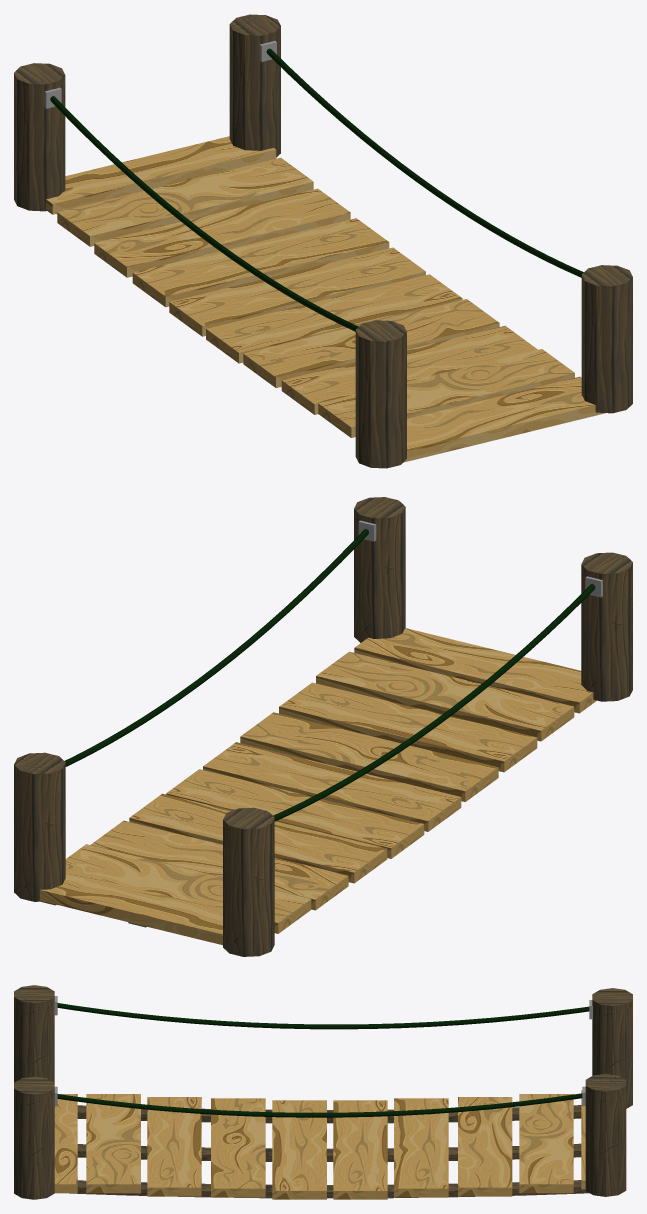
File: Bridge.fbx
The picture shows the model from 3 angles, top to bottom: view 1: azimuth 30°, elevation 25°; view 2: azimuth 150°, elevation 25°; view 3: azimuth 270°, elevation 25°; orthographic projection. The views are drawn at different scales.
Parts seen in each view (by area): view 1: polySurface24, polySurface25, polySurface23, polySurface22, polySurface30, polySurface27, polySurface18, polySurface19, polySurface26, polySurface29, polySurface20, polySurface21 (+4 smaller); view 2: polySurface29, polySurface28, polySurface26, polySurface27, polySurface30, polySurface22, polySurface20, polySurface21, polySurface18, polySurface23, polySurface19, polySurface25 (+4 smaller); view 3: polySurface27, polySurface22, polySurface26, polySurface28, polySurface24, polySurface25, polySurface23, polySurface29, polySurface21, polySurface19, polySurface18, polySurface20 (+7 smaller).
Part boxes in pixels (x1,y1,x2,y2): polySurface24: (57, 157, 313, 246); polySurface25: (94, 188, 350, 277); polySurface23: (132, 218, 389, 307); polySurface22: (169, 247, 425, 336); polySurface30: (403, 376, 605, 462); polySurface27: (206, 274, 462, 363); polySurface18: (355, 320, 406, 468); polySurface19: (581, 265, 632, 413); polySurface26: (243, 299, 499, 388); polySurface29: (318, 349, 574, 437); polySurface20: (14, 63, 65, 211); polySurface21: (229, 14, 280, 157); polySurface29: (316, 651, 574, 741); polySurface28: (279, 682, 537, 772); polySurface26: (240, 712, 498, 801); polySurface27: (203, 742, 461, 831); polySurface30: (354, 628, 596, 713); polySurface22: (166, 769, 424, 858); polySurface20: (223, 807, 274, 956); polySurface21: (14, 752, 65, 901); polySurface18: (581, 552, 632, 701); polySurface23: (129, 793, 387, 883); polySurface19: (354, 497, 405, 642); polySurface25: (90, 820, 348, 910); polySurface27: (272, 1100, 326, 1199); polySurface22: (333, 1100, 387, 1199); polySurface26: (211, 1098, 265, 1197); polySurface28: (147, 1097, 201, 1196); polySurface24: (519, 1094, 573, 1193); polySurface25: (458, 1097, 512, 1196); polySurface23: (394, 1098, 448, 1197); polySurface29: (86, 1094, 140, 1193); polySurface21: (585, 1073, 626, 1196); polySurface19: (14, 1076, 54, 1199); polySurface18: (14, 985, 54, 1082); polySurface20: (592, 988, 632, 1108).
Bounding box in the file's own units: 4.75 × 2.36 × 11.35.
4 materials, 2 textured.
